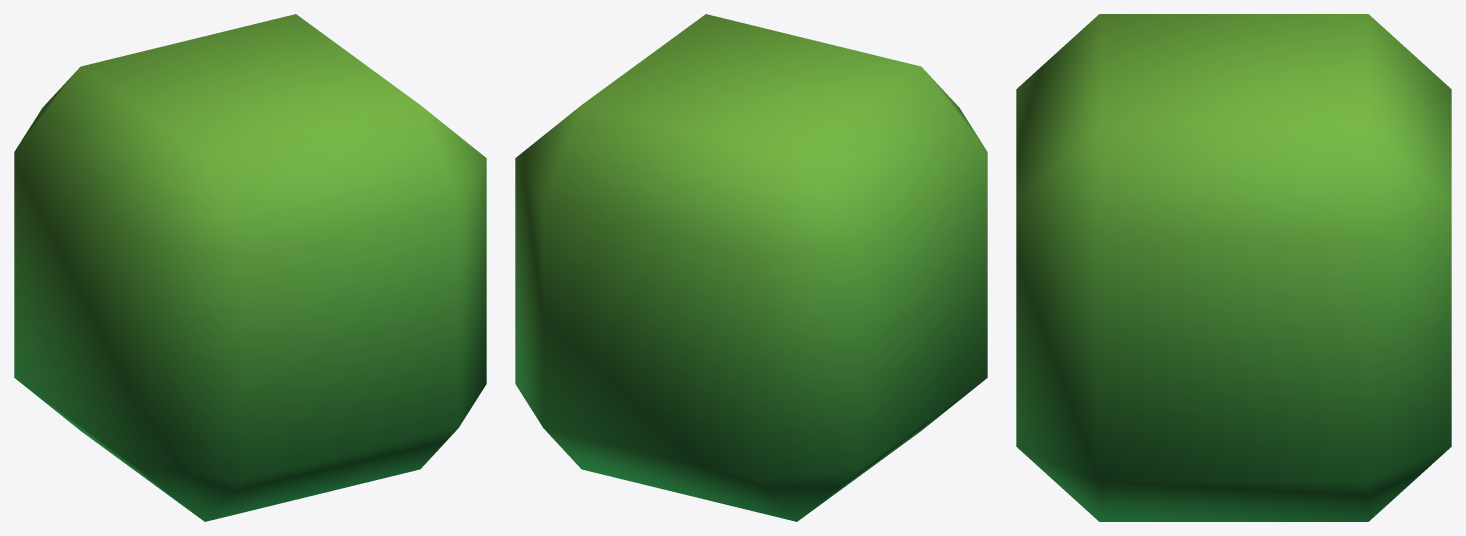
Rendered from Bush_2_A_Color1.glb.
3 views of the same model, side by side, from view 1: azimuth 30°, elevation 25°; view 2: azimuth 150°, elevation 25°; view 3: azimuth 270°, elevation 25° (orthographic). The views are drawn at different scales.
Parts seen in each view (by area): view 1: Bush_2_A_Color1; view 2: Bush_2_A_Color1; view 3: Bush_2_A_Color1.
Part boxes in pixels (<box>): Bush_2_A_Color1: <box>14,14,486,521</box>; Bush_2_A_Color1: <box>515,14,987,521</box>; Bush_2_A_Color1: <box>1016,14,1451,521</box>.
Bounding box in the file's own units: 0.528 × 0.528 × 0.528.
1 material, 1 textured.
